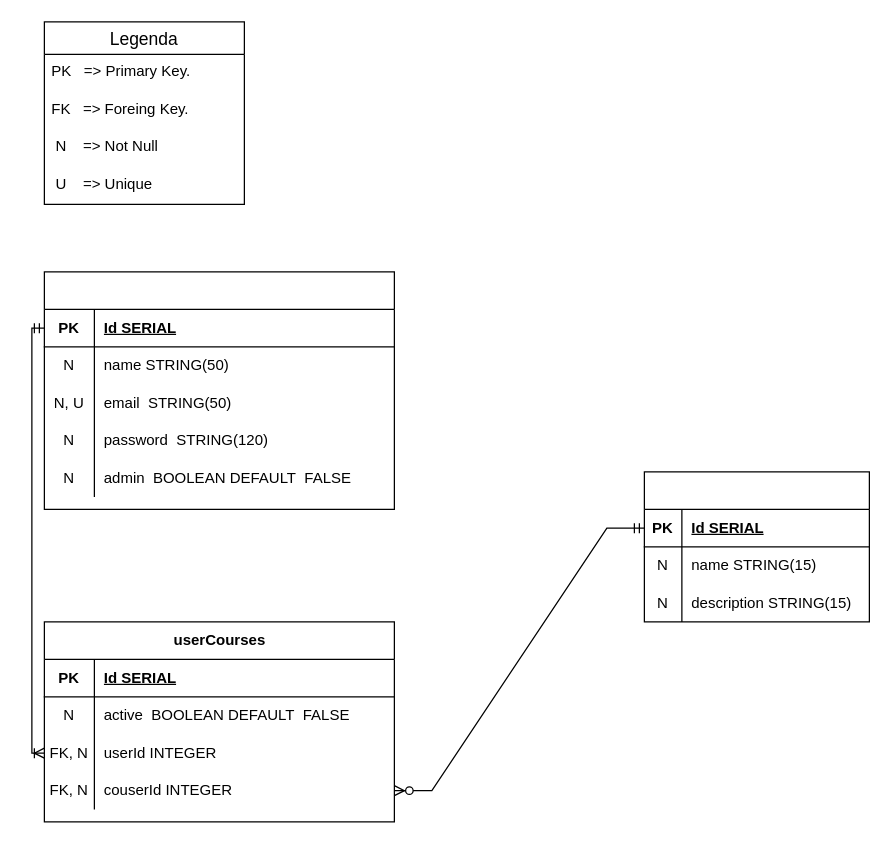
The diagram is 891 pixels wide and 844 high, and some of its shapes have lost their labels. Here are the shapes that lost their labels. From the top down, the box of each, then its label:
(43, 271, 394, 509): users
(643, 471, 869, 622): cousers
